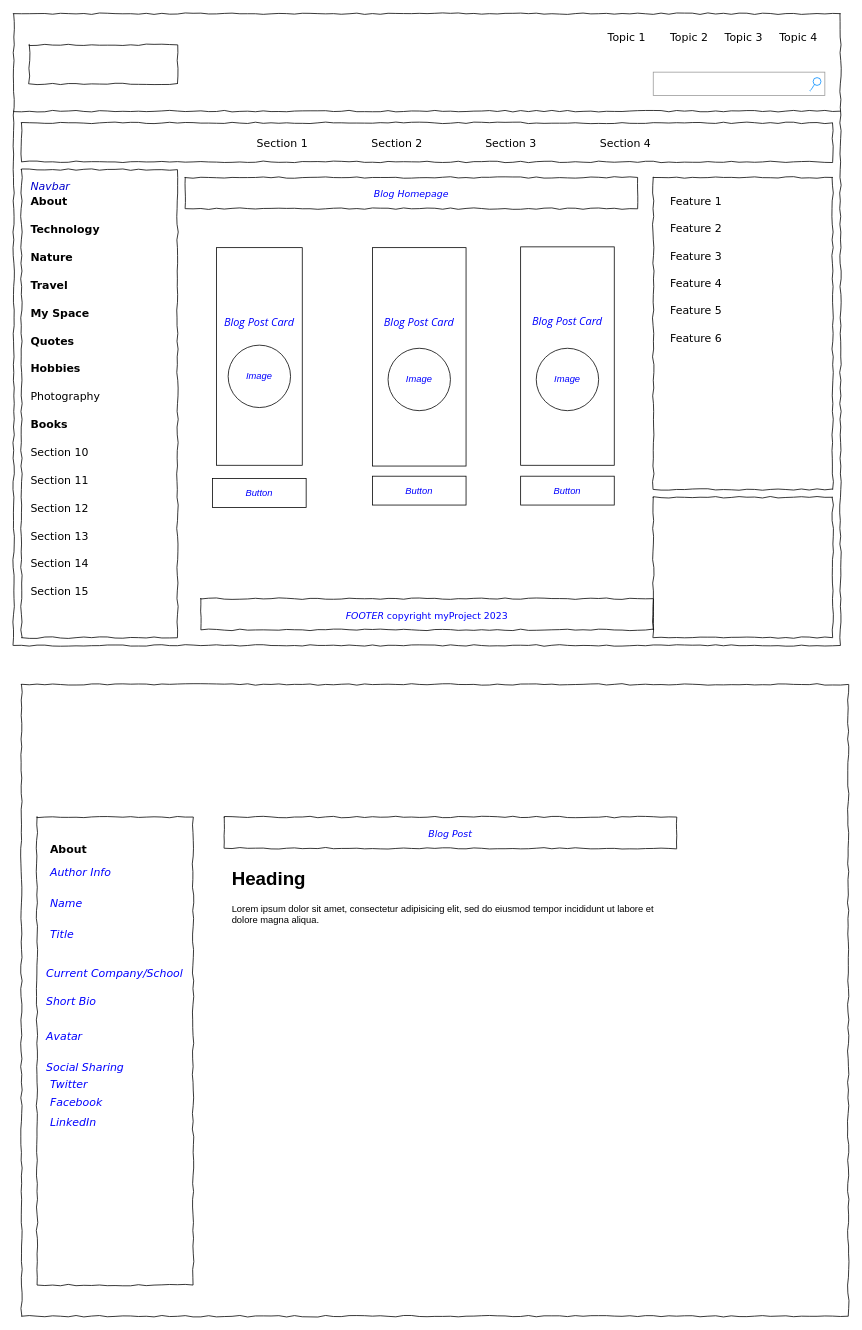
Image size: 862x1330. Some labels were removed from this diagram. Each missing label, with the box of its shape:
External Links: (652, 496, 833, 638)
LOGO: (28, 44, 177, 84)
Search: (652, 71, 825, 96)
